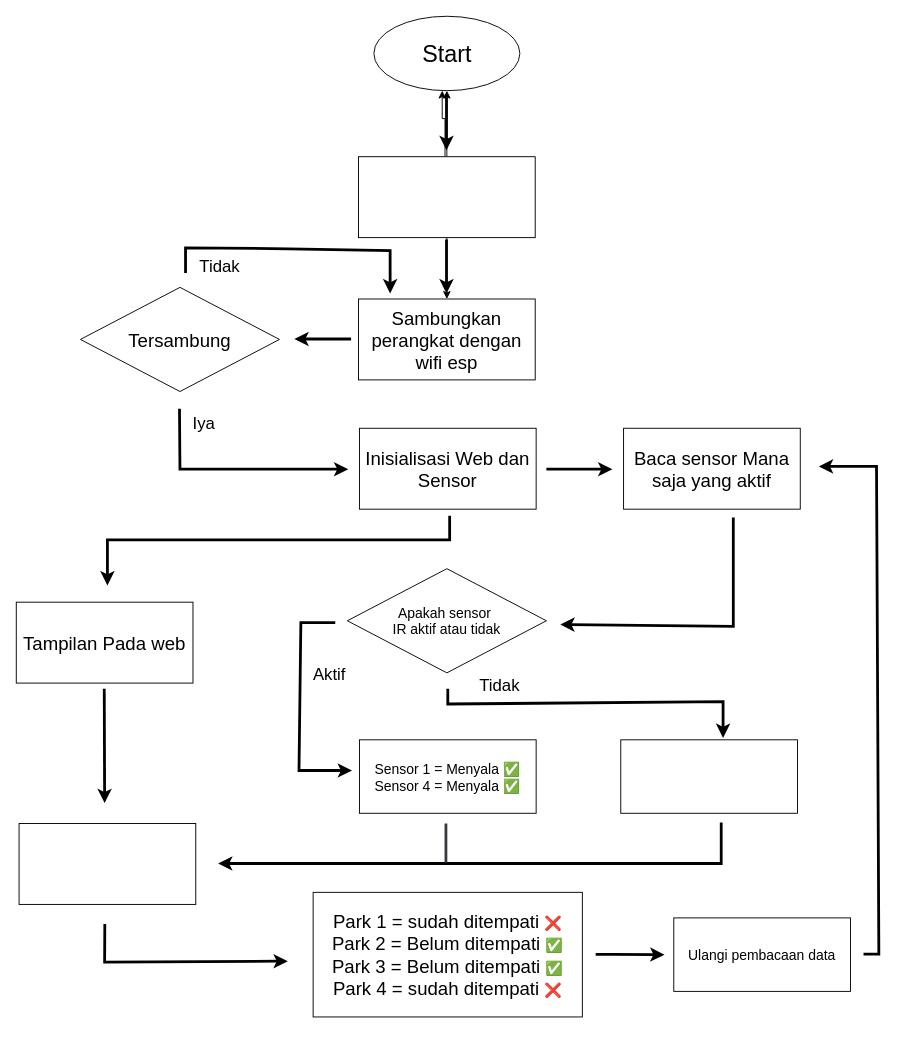
This 904x1038 diagram has some shape labels left out. The centre of each missing label's shape, as x and y in pixels:
"ESP 32 Membuat router" belongs at point (446, 197).
"Sensor 2 = Mati ❌ Sensor 3 = Mati❌" belongs at point (708, 776).
"Tampilan Web saat membaca data" belongs at point (107, 863).
